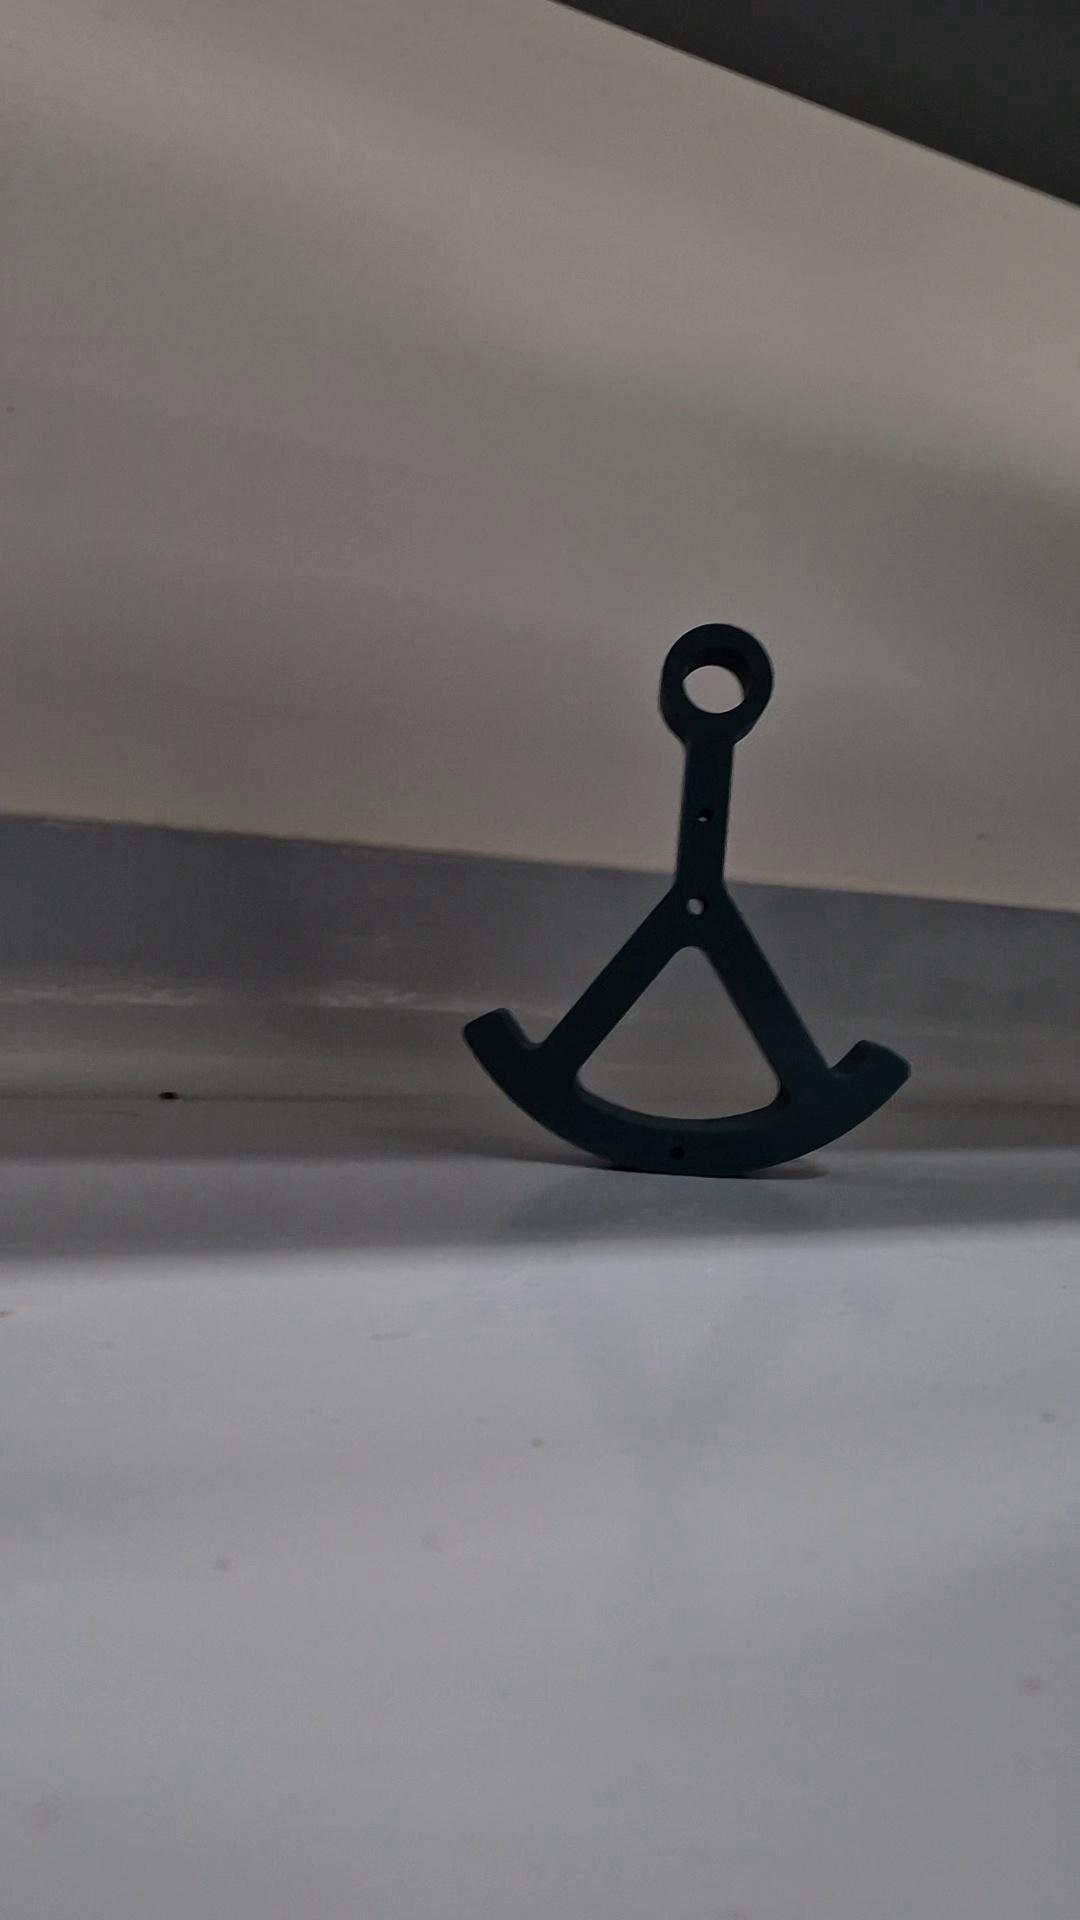Paddles: (458, 620, 916, 1184)
